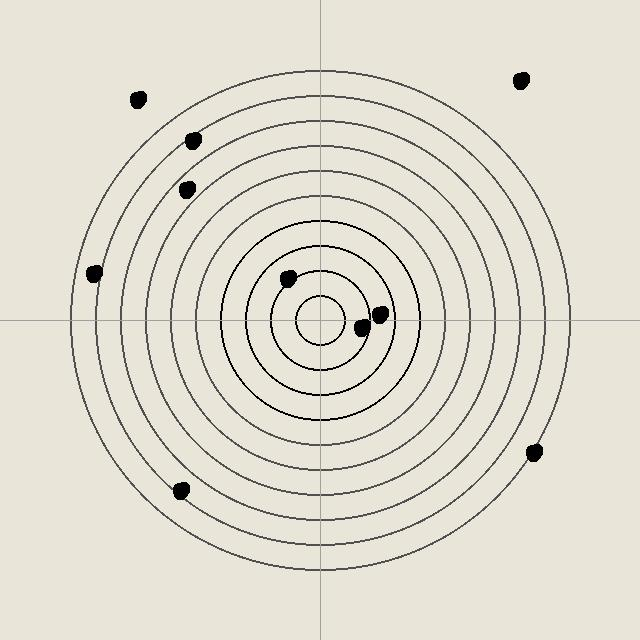random_scatter: (510, 70, 530, 90), (369, 304, 389, 324), (277, 268, 297, 288), (351, 317, 371, 337), (170, 480, 190, 500), (182, 130, 202, 150), (83, 263, 103, 283), (127, 89, 147, 109), (176, 179, 196, 199), (523, 442, 543, 462)
